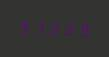nine: (18, 18, 31, 36), (74, 20, 87, 38)
seven: (32, 19, 45, 36)
two: (46, 19, 59, 37), (60, 20, 73, 37)
